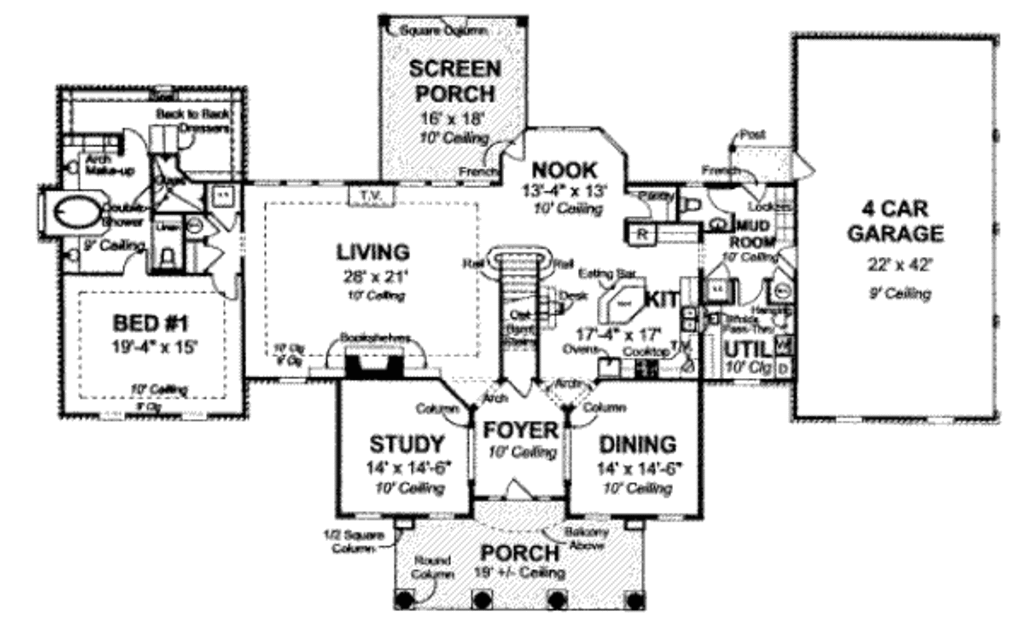door: (210, 270, 241, 307), (734, 274, 765, 310), (206, 244, 239, 276), (500, 131, 528, 168), (705, 187, 739, 217), (789, 150, 815, 186), (120, 245, 150, 276), (503, 378, 537, 403), (503, 478, 537, 503), (620, 192, 650, 219), (123, 124, 147, 157)
kitchen_bar: (592, 267, 648, 327)
large_sink: (154, 239, 184, 272), (679, 186, 704, 223)
small_sink: (59, 145, 84, 188), (64, 235, 84, 274)
stairs: (482, 242, 559, 379)
tub: (37, 187, 109, 239)
twin_sink: (677, 303, 701, 334)
window: (398, 175, 493, 195), (252, 175, 347, 193), (922, 411, 958, 434), (831, 412, 866, 429), (174, 409, 209, 426), (92, 406, 129, 422), (424, 507, 459, 523), (350, 506, 385, 521)
